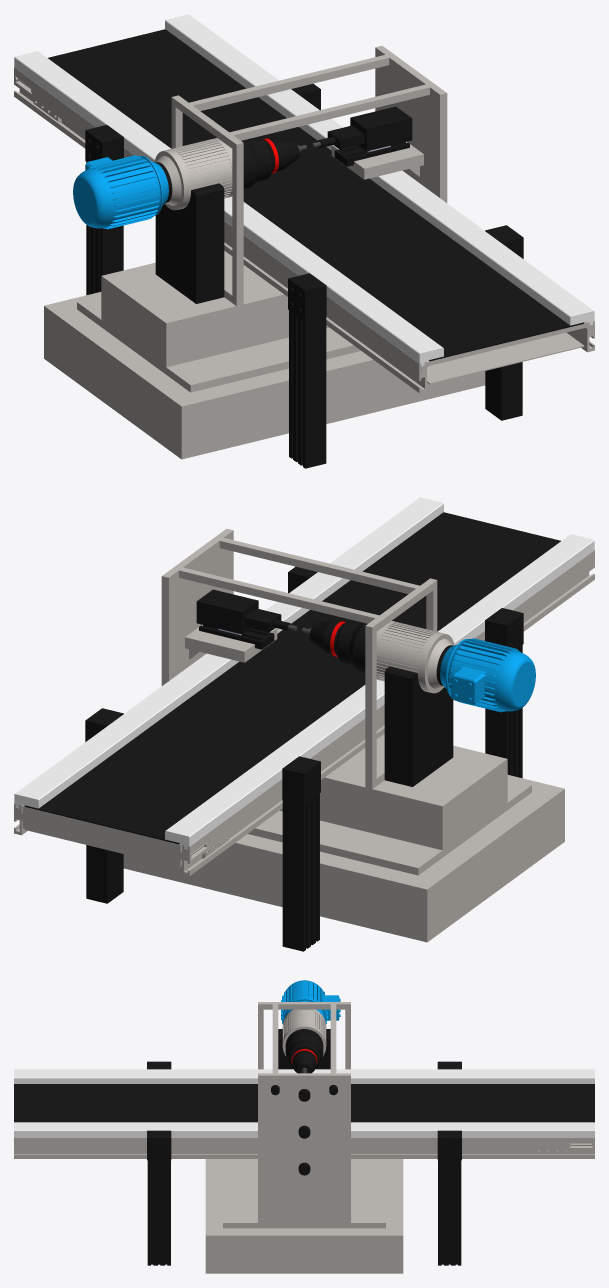
File: Riveting_Station.glb
3 views of the same model, one above another, from view 1: azimuth 30°, elevation 25°; view 2: azimuth 150°, elevation 25°; view 3: azimuth 270°, elevation 25° (orthographic). The views are drawn at different scales.
Parts seen in each view (by area): view 1: color-12.001, color-23[1], color-23.001, color-23[5], color-23[3], color-24[1], color-6.001, color-4.001, color-24.001, color-23[2], color-24[2], color-19.001 (+5 smaller); view 2: color-12.001, color-23[1], color-23.001, color-23[5], color-24.001, color-6.001, color-23[3], color-4.001, color-23[4], color-24[1], color-24[3], color-19.001 (+4 smaller); view 3: color-12.001, color-23[1], color-23[3], color-23[5], color-23.001, color-24[2], color-24[3], color-15.001, color-4.001, color-23[4], color-5.001, color-6.001.
Part boxes in pixels (x1,y1,x2,y2): color-12.001: [44, 45, 485, 459]; color-23[1]: [48, 29, 584, 361]; color-23.001: [165, 14, 594, 325]; color-23[5]: [14, 51, 443, 366]; color-23[3]: [44, 89, 594, 393]; color-24[1]: [288, 273, 326, 468]; color-6.001: [155, 183, 224, 303]; color-4.001: [73, 155, 168, 229]; color-24.001: [85, 125, 123, 295]; color-23[2]: [427, 332, 584, 384]; color-24[2]: [485, 225, 523, 420]; color-19.001: [327, 106, 412, 151]; color-12.001: [123, 528, 564, 942]; color-23[1]: [24, 512, 560, 844]; color-23.001: [14, 497, 443, 808]; color-23[5]: [165, 534, 594, 849]; color-24.001: [282, 756, 320, 951]; color-6.001: [384, 666, 453, 786]; color-23[3]: [218, 550, 594, 853]; color-4.001: [440, 638, 535, 712]; color-23[4]: [14, 804, 229, 876]; color-24[1]: [485, 608, 523, 778]; color-24[3]: [85, 708, 123, 903]; color-19.001: [196, 589, 281, 634]; color-12.001: [205, 1002, 403, 1273]; color-23[1]: [14, 1084, 594, 1122]; color-23[3]: [14, 1138, 551, 1158]; color-23[5]: [14, 1069, 594, 1083]; color-23.001: [14, 1122, 594, 1137]; color-24[2]: [147, 1130, 171, 1265]; color-24[3]: [437, 1130, 461, 1265]; color-15.001: [285, 1029, 323, 1073]; color-4.001: [281, 980, 340, 1024]; color-23[4]: [534, 1138, 594, 1158]; color-5.001: [282, 1009, 326, 1042]; color-6.001: [278, 1029, 330, 1069].
Size of the model in its own units: 0.5 by 0.362 by 1.
